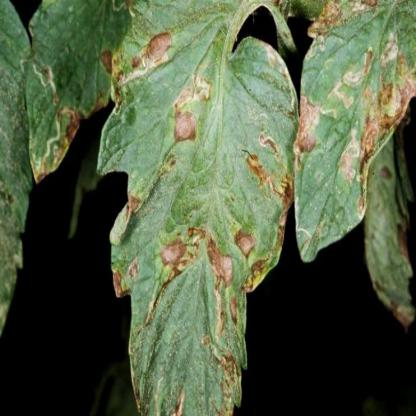potato leaf early blight: (98, 3, 304, 415), (293, 5, 415, 252), (25, 3, 105, 189), (369, 147, 415, 326)
